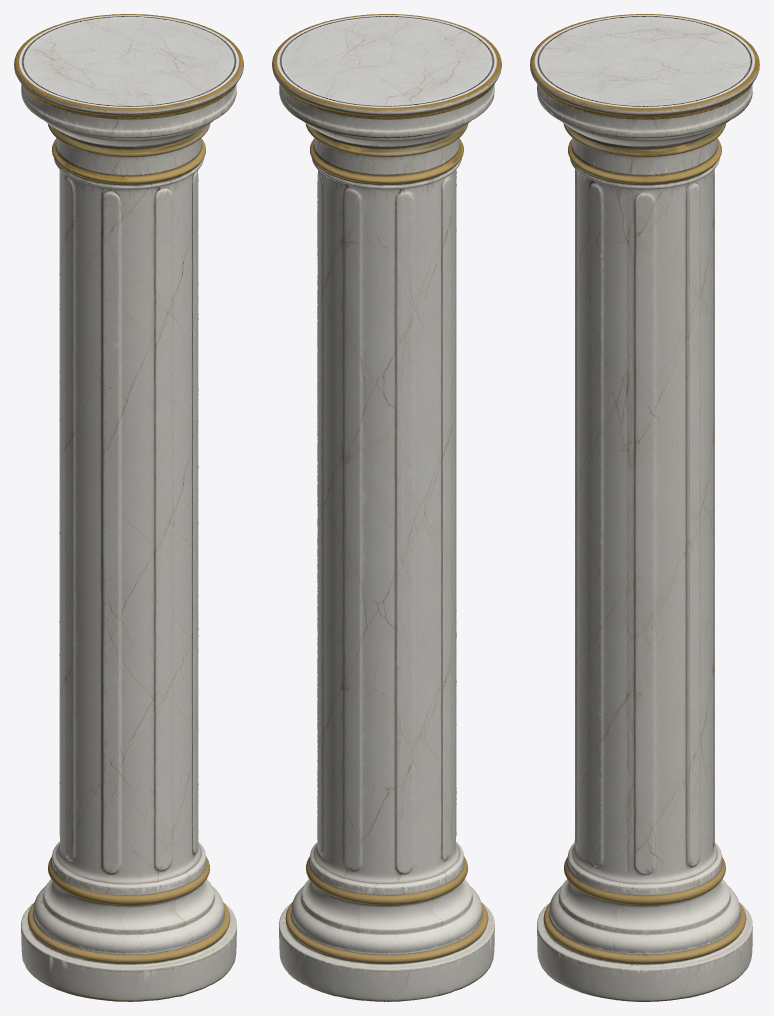
Rendered from columna.glb.
The picture shows the model from 3 angles, left to right: view 1: azimuth 30°, elevation 25°; view 2: azimuth 150°, elevation 25°; view 3: azimuth 270°, elevation 25°; orthographic projection.
Size of the model in its own units: 0.4412 by 1.9 by 0.441.
1 material, 1 textured.
